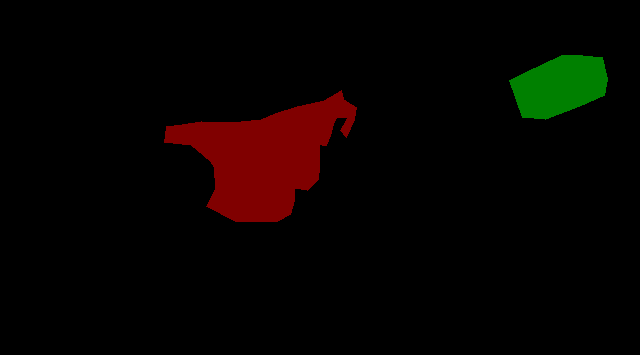fire: (164, 90, 356, 221), (509, 55, 607, 119)
